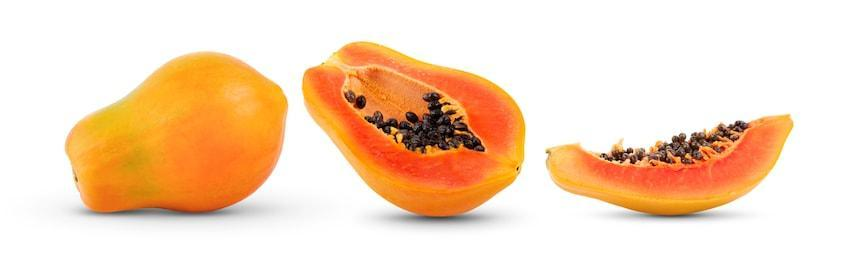papaya: (304, 42, 526, 219), (61, 52, 289, 213), (544, 119, 802, 221)
